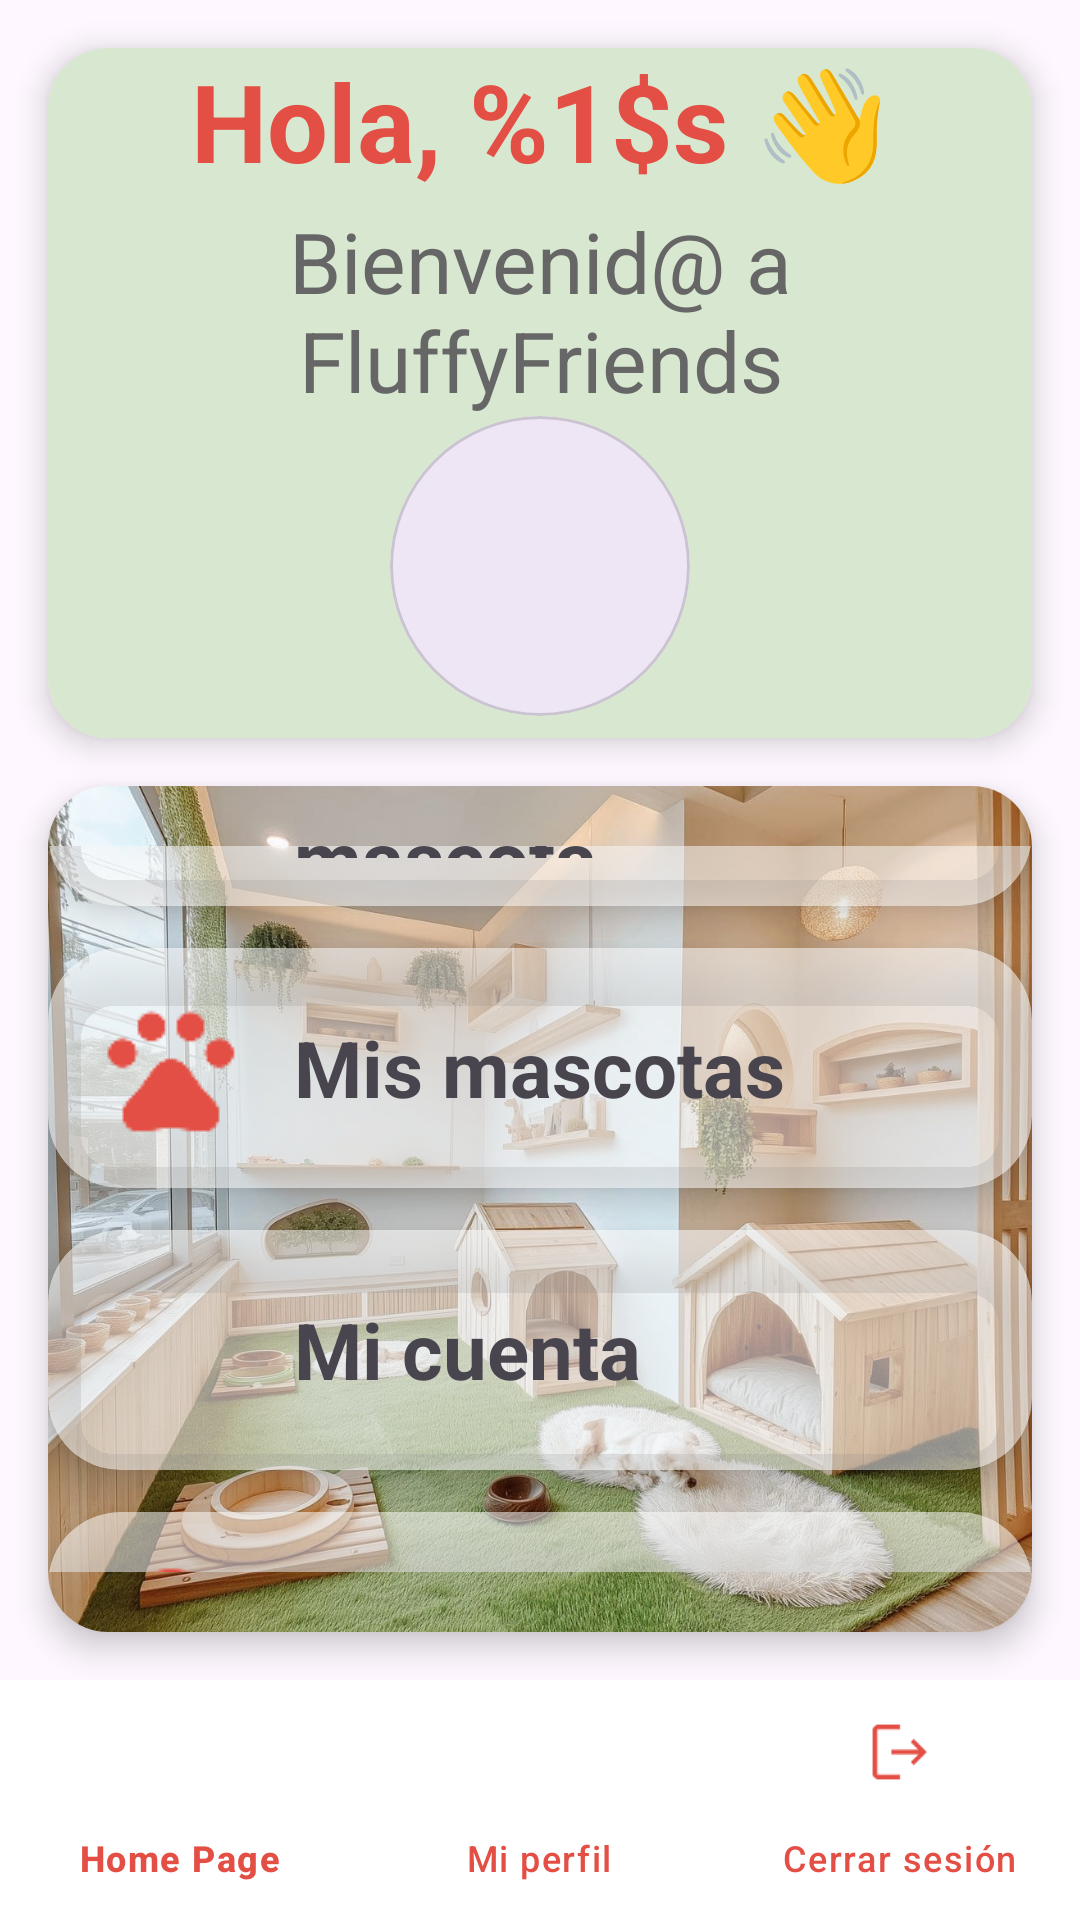

Named icons in this screenshot (1080w x 1920h) and their centers, (x=x, y=y):
paw: (x=171, y=1068)
